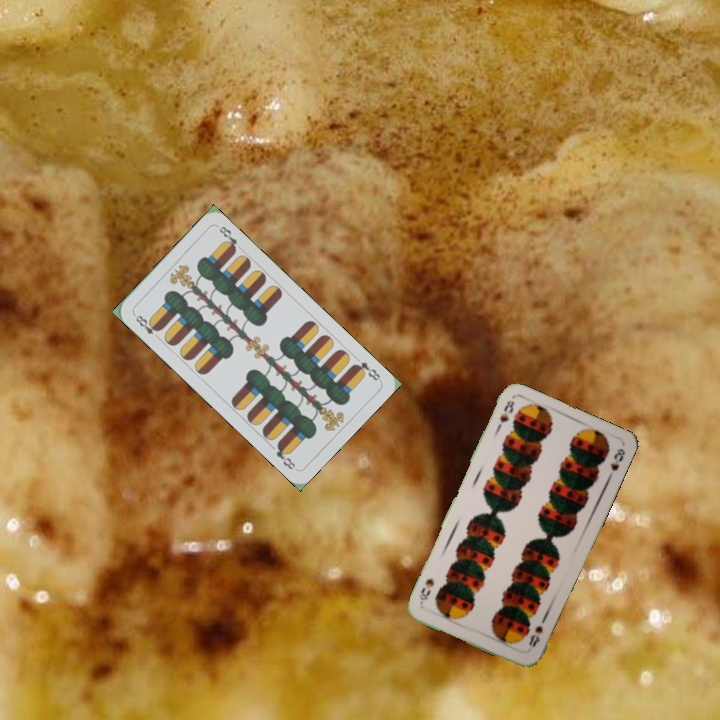E8: (130, 310, 163, 342), (349, 357, 383, 383)
S8: (492, 396, 517, 433), (525, 621, 546, 650)
